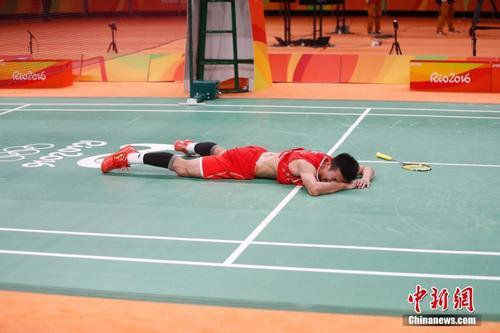down: (91, 127, 388, 200)
